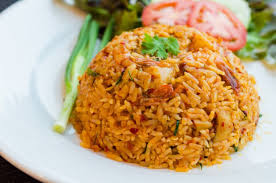Nasi goreng: (73, 23, 260, 172)
